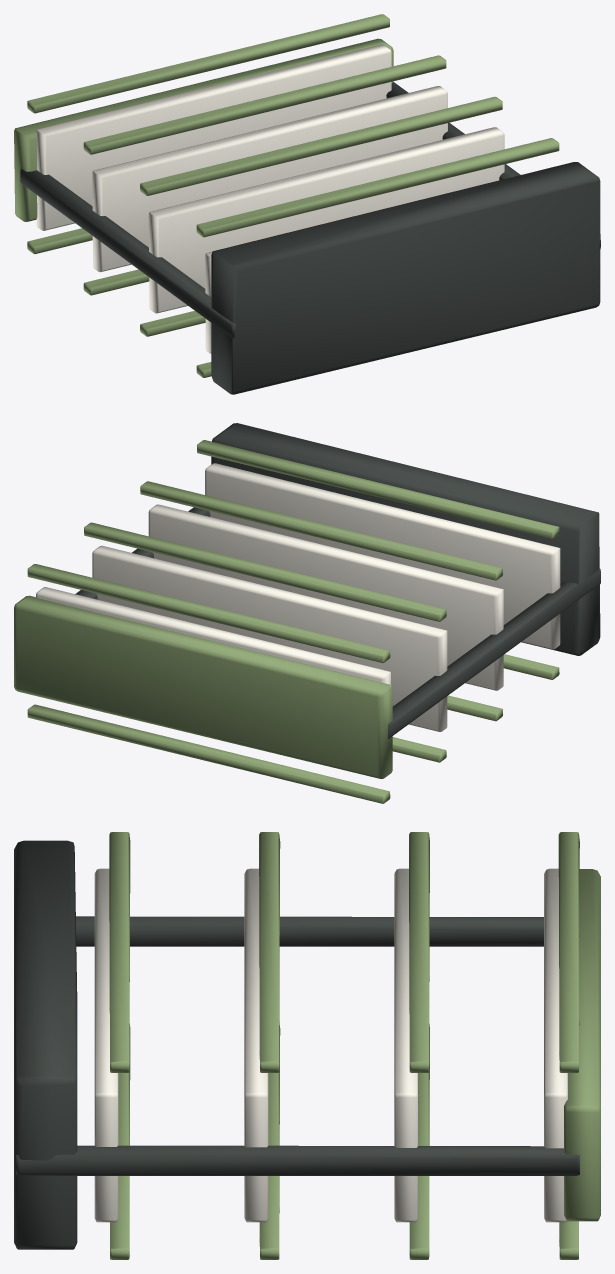
The model's file is shelf_gondola_double.glb.
The picture shows the model from 3 angles, top to bottom: view 1: azimuth 30°, elevation 25°; view 2: azimuth 150°, elevation 25°; view 3: azimuth 270°, elevation 25°; orthographic projection. The views are drawn at different scales.
Visible parts, largest first — view 1: Base, Shelf.002, Shelf.003, Shelf.001, Post, Trim, Trim.004, Trim.002, Trim.006, Header, Trim.005, Trim.007 (+3 smaller); view 2: Header, Shelf, Shelf.001, Shelf.002, Base, Post, Trim.007, Trim.006, Trim.004, Trim, Trim.002, Shelf.003 (+3 smaller); view 3: Base, Post.001, Post, Header, Shelf.001, Shelf, Shelf.002, Shelf.003, Trim.004, Trim.002, Trim, Trim.006 (+4 smaller).
Boxes of the visible parts, x1,y1,x2,y2 form: Base: [211, 162, 600, 394]; Shelf.002: [92, 86, 447, 272]; Shelf.003: [36, 44, 391, 230]; Shelf.001: [148, 127, 504, 313]; Post: [20, 168, 235, 338]; Trim: [196, 138, 559, 237]; Trim.004: [83, 55, 446, 154]; Trim.002: [140, 96, 502, 195]; Trim.006: [27, 14, 389, 113]; Header: [14, 38, 393, 221]; Trim.005: [83, 269, 149, 295]; Trim.007: [27, 228, 92, 254]; Header: [14, 595, 392, 778]; Shelf: [205, 463, 560, 649]; Shelf.001: [148, 504, 503, 690]; Shelf.002: [92, 545, 447, 731]; Base: [211, 423, 600, 655]; Post: [388, 569, 600, 738]; Trim.007: [27, 704, 390, 803]; Trim.006: [27, 564, 390, 662]; Trim.004: [84, 522, 446, 621]; Trim: [197, 440, 559, 539]; Trim.002: [140, 481, 502, 580]; Shelf.003: [36, 587, 390, 684]; Base: [14, 840, 77, 1249]; Post.001: [16, 1145, 579, 1175]; Post: [76, 916, 543, 946]; Header: [564, 869, 600, 1221]; Shelf.001: [244, 868, 268, 1222]; Shelf: [94, 868, 118, 1222]; Shelf.002: [394, 868, 417, 1222]; Shelf.003: [544, 868, 567, 1222]; Trim.004: [409, 832, 429, 1072]; Trim.002: [259, 832, 280, 1072]; Trim: [109, 832, 130, 1072]; Trim.006: [558, 832, 579, 1072].
Size of the model in its own units: 2.15 by 0.8299 by 2.22.
